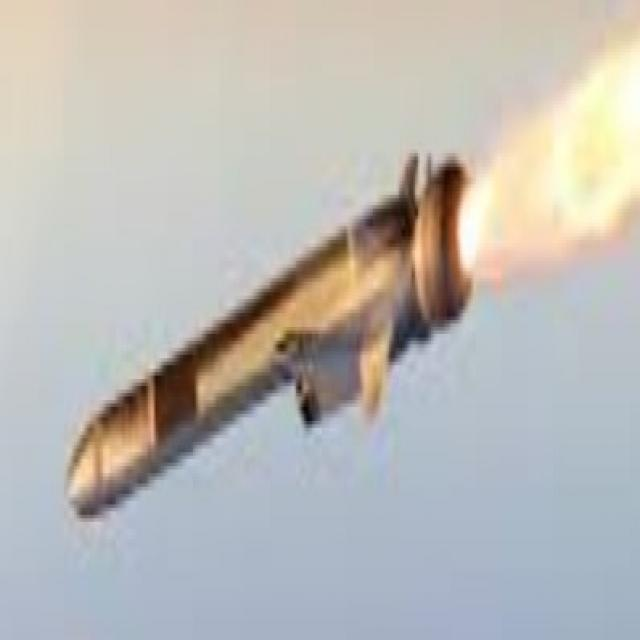missile: (64, 147, 502, 529)
